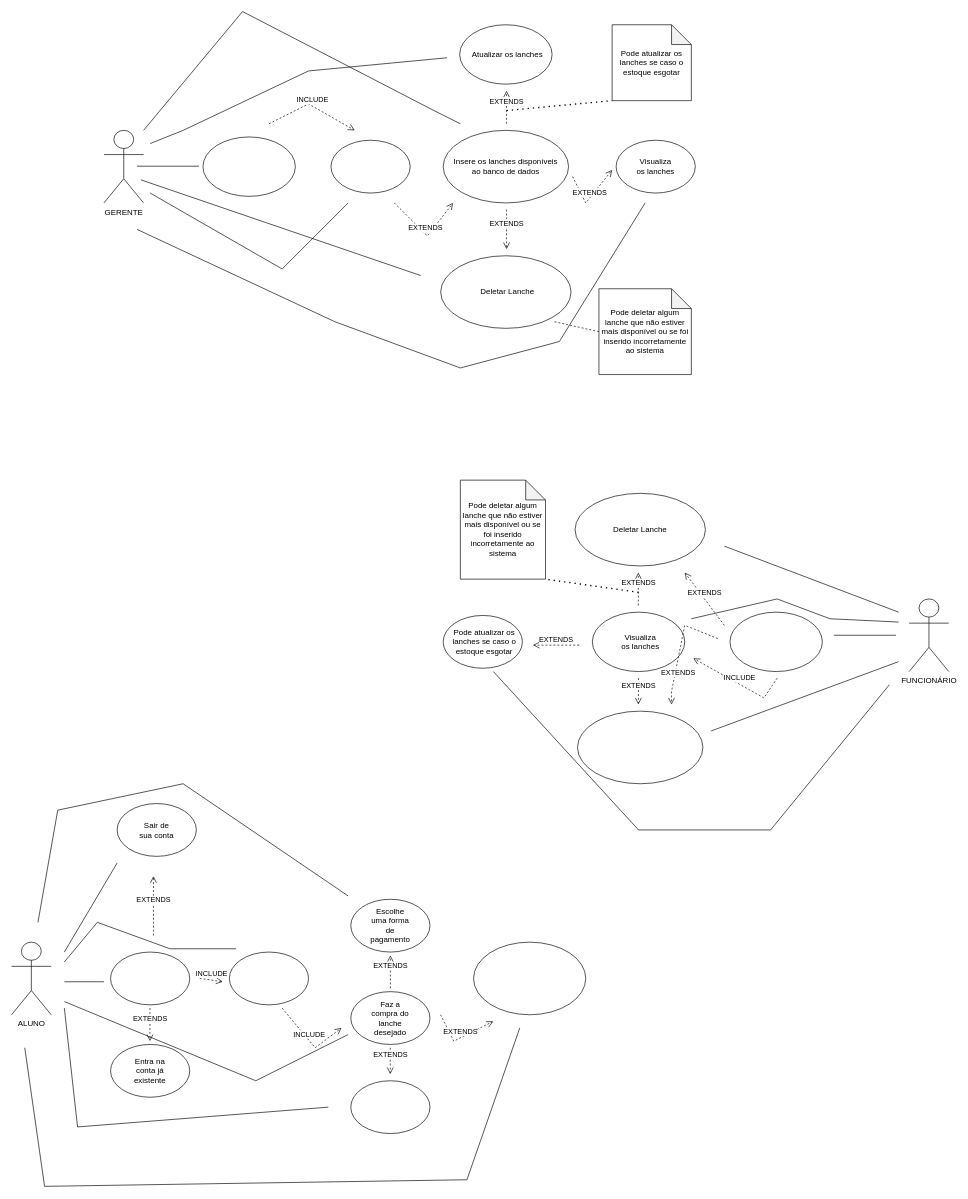
The diagram is 968 pixels wide and 1199 high, and some of its shapes have lost their labels. Here are the shapes that lost their labels. From the top down, the box of each, then its label:
(202, 136, 295, 196): Faz o cadastro como administrador no sistema
(330, 140, 410, 193): Insere os funcionários no sistema
(729, 611, 822, 672): Faz o cadastro no sistema
(577, 710, 703, 784): Insere os lanches disponíveis
(110, 951, 190, 1005): Cria a sua conta no sistema
(229, 951, 309, 1005): Visualiza os lanches disponíveis
(473, 941, 586, 1015): Retira o lanche na cantina logo após efetuado o pagamento
(350, 1080, 430, 1134): Pode cancelar o pagamento se quiser
